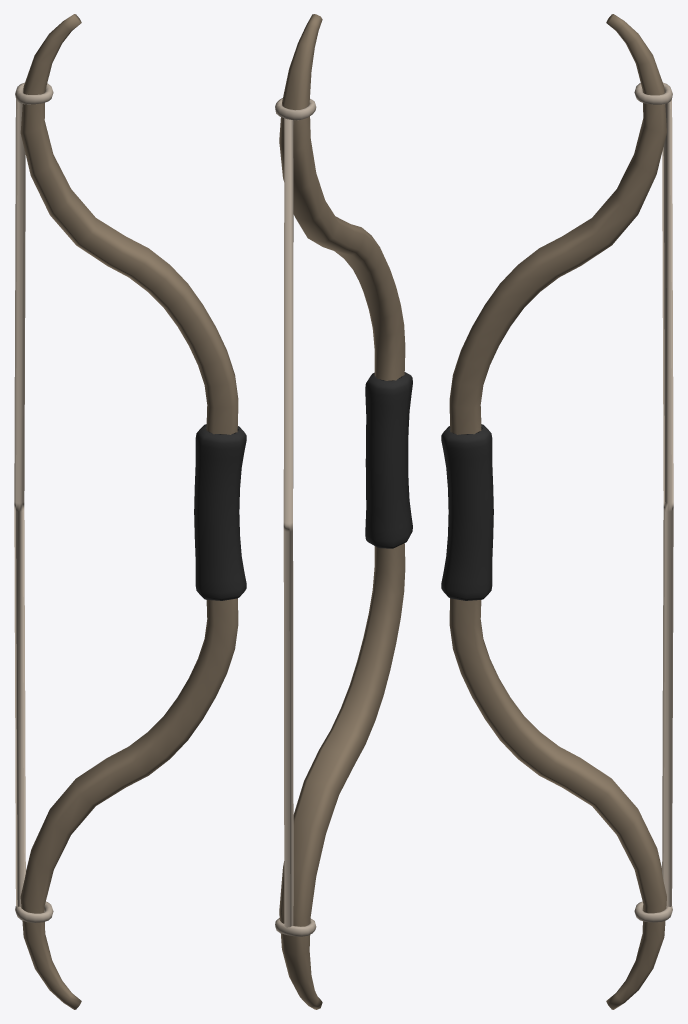
The model's file is Bow.fbx.
3 views of the same model, side by side, from view 1: azimuth 90°, elevation 25°; view 2: azimuth 150°, elevation 25°; view 3: azimuth 270°, elevation 25° (orthographic).
Parts seen in each view (by area): view 1: Bow; view 2: Bow; view 3: Bow.
Boxes of the visible parts, x1=… form: Bow: x1=14, y1=14, x2=246, y2=1009; Bow: x1=275, y1=14, x2=412, y2=1009; Bow: x1=441, y1=14, x2=673, y2=1009.
Bounding box in the file's own units: 0.139 × 3.46 × 0.7326.
